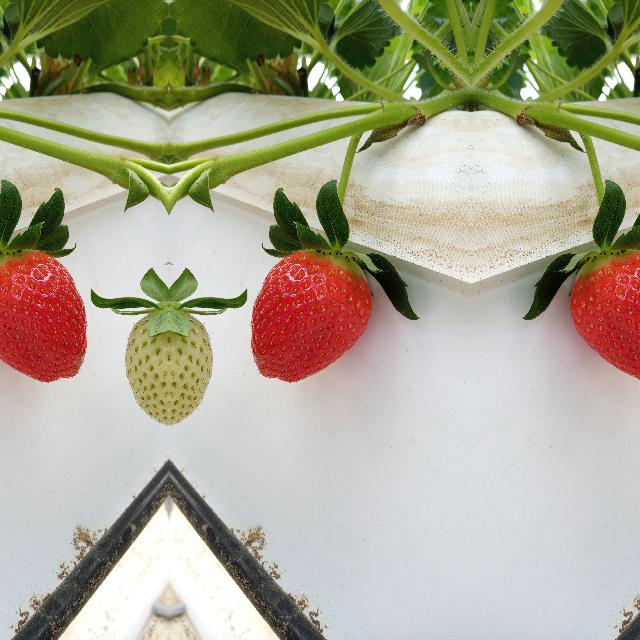Health_100: (248, 248, 372, 384), (0, 248, 87, 383), (569, 248, 640, 383)
